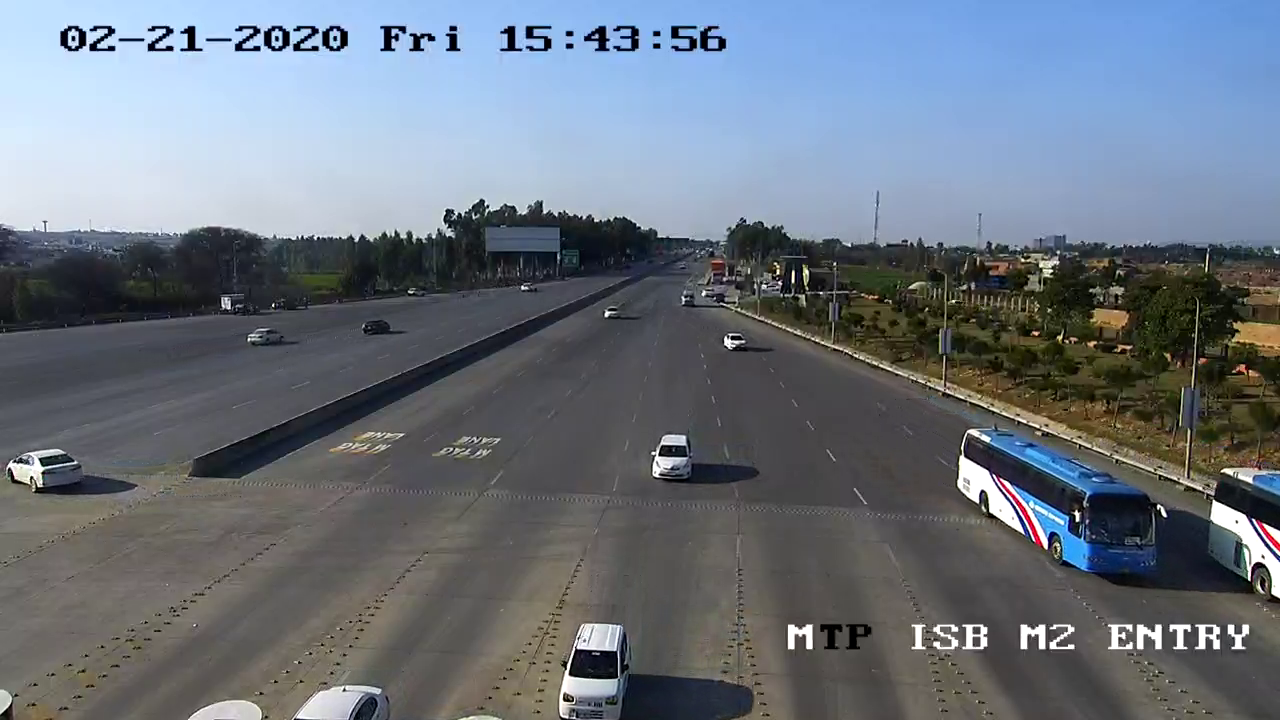f1: (551, 614, 638, 720), (642, 431, 702, 491)
f4: (949, 417, 1174, 592)
